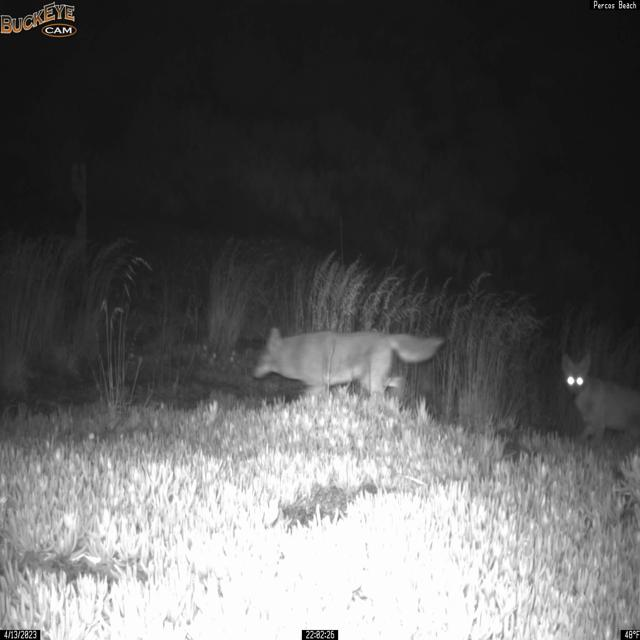coyote: (250, 326, 447, 400)
